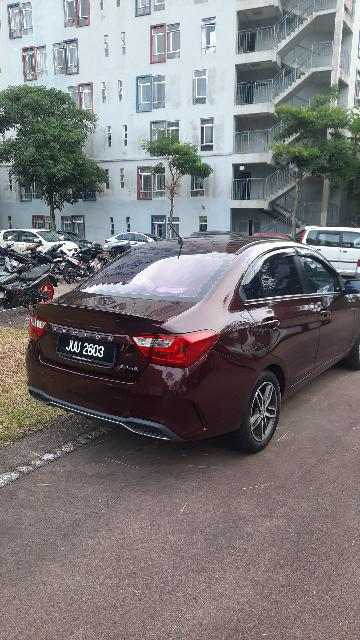License_Plate: (56, 333, 123, 374)
car: (19, 221, 360, 454)
